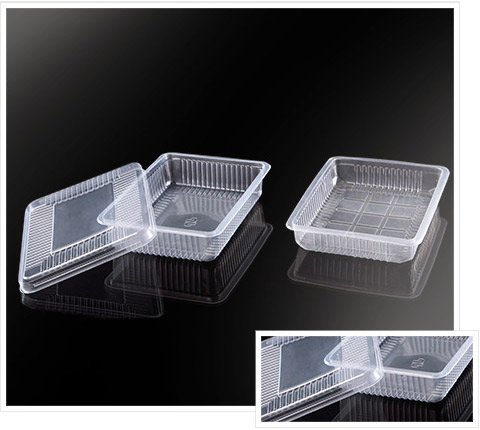PlasticBox: (15, 147, 273, 296), (282, 151, 453, 267)
